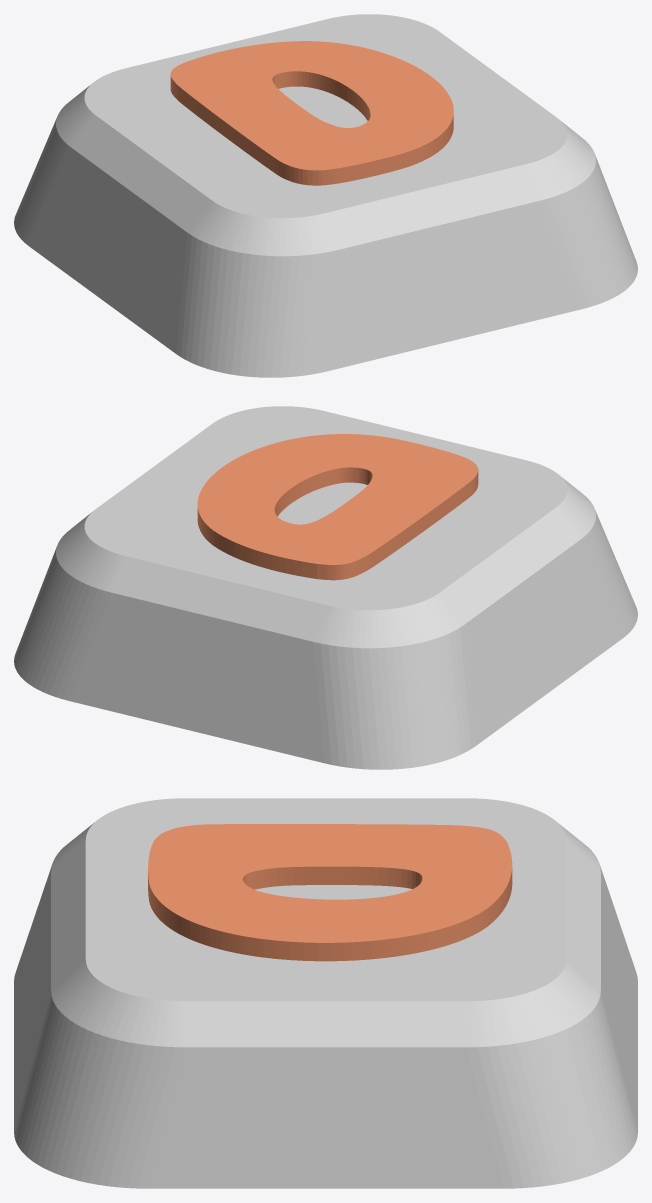
File: cap-D.glb
The picture shows the model from 3 angles, top to bottom: view 1: azimuth 30°, elevation 25°; view 2: azimuth 150°, elevation 25°; view 3: azimuth 270°, elevation 25°; orthographic projection. The views are drawn at different scales.
Parts seen in each view (by area): view 1: cap_0, glyph_1; view 2: cap_0, glyph_1; view 3: cap_0, glyph_1.
Boxes of the visible parts, x1,y1,x2,y2 form: cap_0: (14, 14, 637, 377); glyph_1: (170, 41, 453, 185); cap_0: (14, 406, 637, 769); glyph_1: (197, 434, 478, 580); cap_0: (14, 798, 637, 1188); glyph_1: (148, 824, 512, 961).
Bounding box in the file's own units: 18 × 5.59 × 18.
